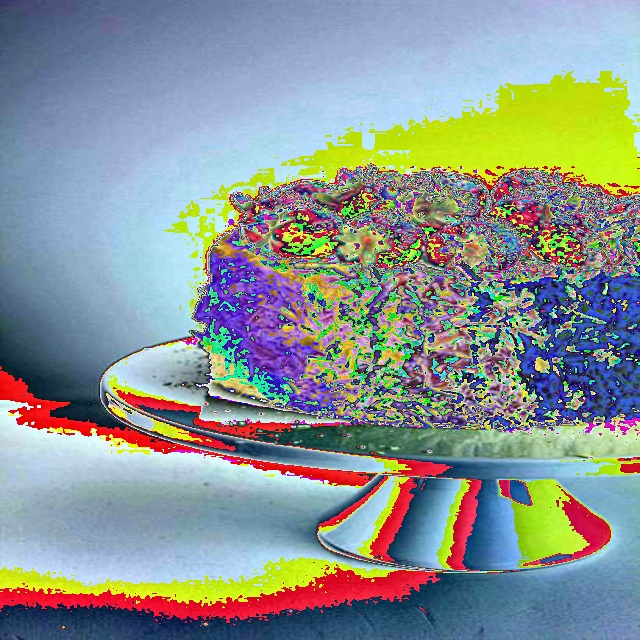background: (188, 164, 639, 428)
